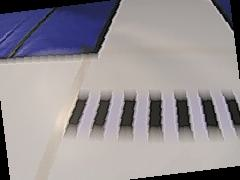CrossWalk: (55, 80, 240, 143)
